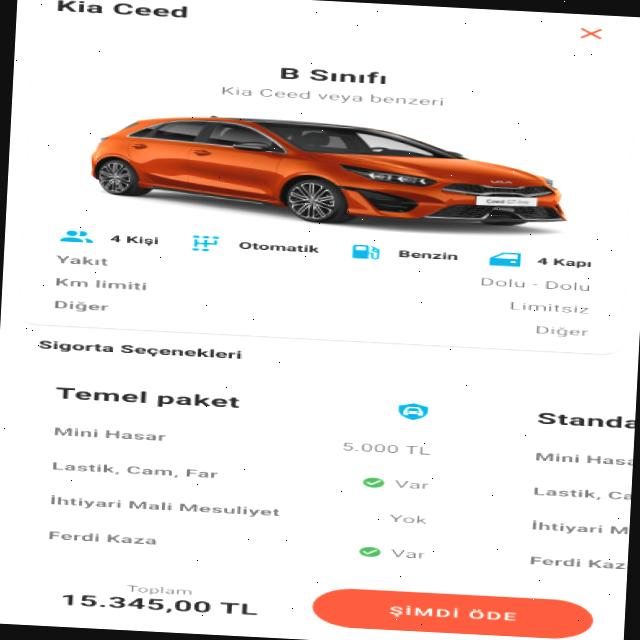QLabel: (42, 492, 283, 520), (214, 83, 446, 107), (32, 337, 248, 362), (50, 384, 246, 409), (59, 592, 256, 616), (44, 460, 220, 480), (42, 0, 191, 20), (528, 408, 635, 432), (270, 64, 392, 85), (386, 603, 520, 622), (46, 424, 172, 441), (478, 275, 592, 293), (524, 518, 630, 536), (526, 484, 632, 502), (44, 529, 160, 545), (50, 276, 152, 292), (530, 450, 633, 465), (526, 554, 628, 569), (338, 440, 431, 454), (508, 300, 592, 314), (236, 240, 320, 253), (124, 582, 192, 596), (50, 298, 109, 314), (52, 252, 111, 268), (534, 324, 592, 338), (392, 248, 458, 260), (105, 233, 162, 246), (534, 255, 590, 268), (386, 512, 428, 524), (390, 478, 428, 489), (387, 548, 425, 558)
VBtn: (308, 584, 593, 640)
VCard: (16, 34, 636, 356), (4, 360, 476, 580), (484, 386, 636, 589)
VDivider: (34, 444, 446, 470), (30, 514, 442, 540), (33, 478, 444, 504), (31, 548, 440, 574), (34, 410, 448, 435), (511, 538, 628, 548), (519, 470, 632, 480), (514, 505, 630, 514), (516, 436, 634, 444), (509, 574, 627, 582)
VFooter: (0, 556, 624, 640)
VIcon: (564, 19, 619, 48), (342, 241, 383, 261), (484, 248, 524, 268), (184, 232, 223, 252), (56, 227, 96, 244), (395, 400, 428, 420), (360, 476, 384, 487), (358, 546, 380, 556)
VImg: (73, 100, 591, 242)
